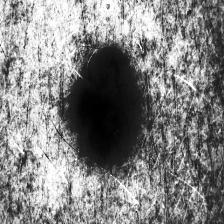Benign Marking or Mole: (72, 50, 136, 164)
